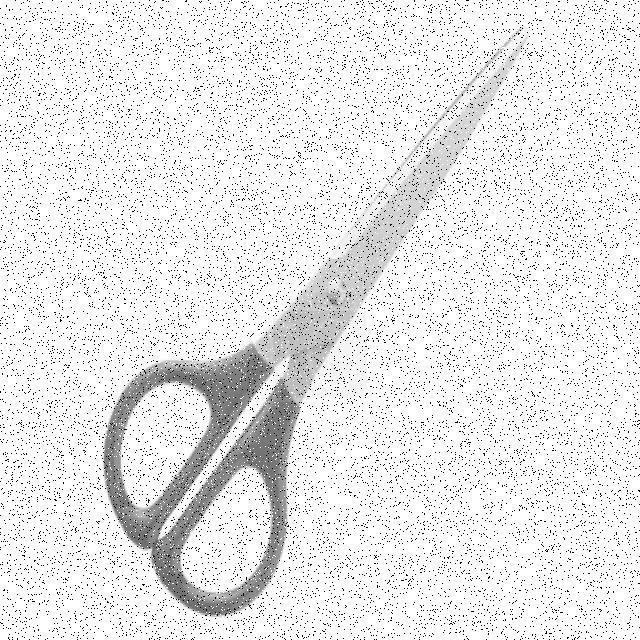scissors: (100, 22, 532, 622)
